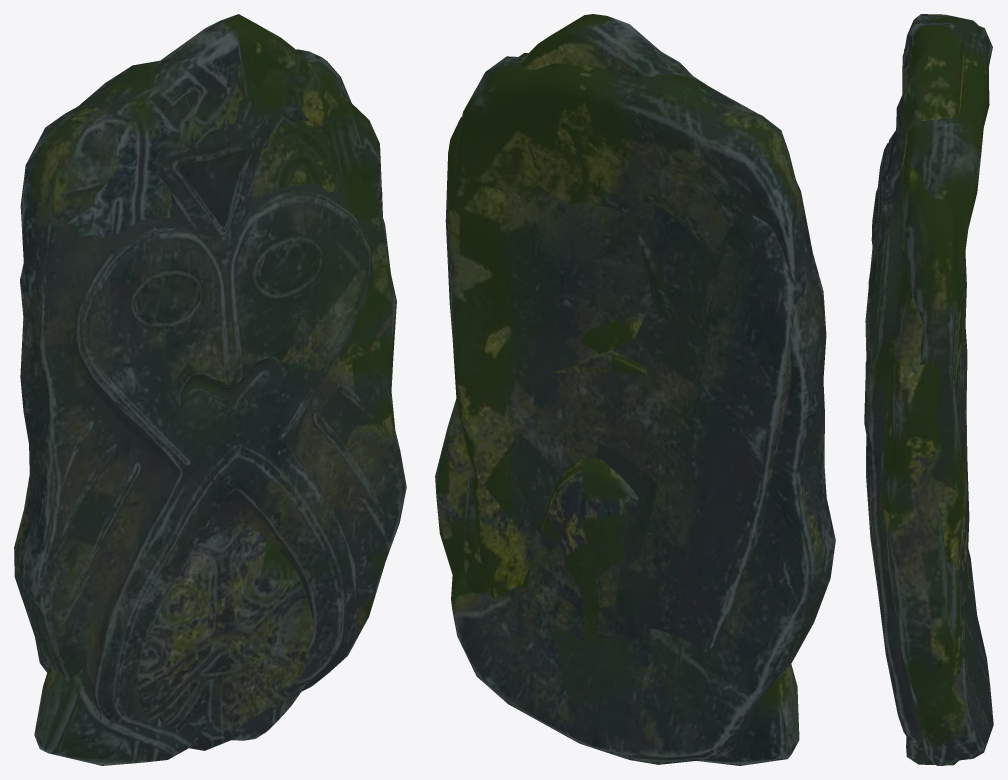
The model's file is elder_stones.glb.
3 views of the same model, side by side, from view 1: azimuth 30°, elevation 25°; view 2: azimuth 150°, elevation 25°; view 3: azimuth 270°, elevation 25° (orthographic). The views are drawn at different scales.
Parts seen in each view (by area): view 1: defaultMaterial_1, defaultMaterial_5, defaultMaterial_6, defaultMaterial_3; view 2: defaultMaterial_5, defaultMaterial_1, defaultMaterial_6, defaultMaterial_3, defaultMaterial_2; view 3: defaultMaterial_1, defaultMaterial_5, defaultMaterial_6, defaultMaterial_3.
Part boxes in pixels (<box>): defaultMaterial_1: <box>14,49,406,727</box>; defaultMaterial_5: <box>20,14,382,740</box>; defaultMaterial_6: <box>136,529,314,750</box>; defaultMaterial_3: <box>34,663,198,765</box>; defaultMaterial_5: <box>445,14,807,652</box>; defaultMaterial_1: <box>435,53,835,764</box>; defaultMaterial_6: <box>522,458,711,650</box>; defaultMaterial_3: <box>463,313,799,765</box>; defaultMaterial_2: <box>553,350,647,374</box>; defaultMaterial_1: <box>864,14,993,765</box>; defaultMaterial_5: <box>900,22,969,765</box>; defaultMaterial_6: <box>959,463,968,630</box>; defaultMaterial_3: <box>946,561,958,689</box>.
Bounding box in the file's own units: 0.5633 × 1.02 × 0.1642.
Materials: 1 (1 with a texture image).
